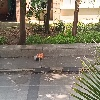fire: (36, 52, 44, 58)
